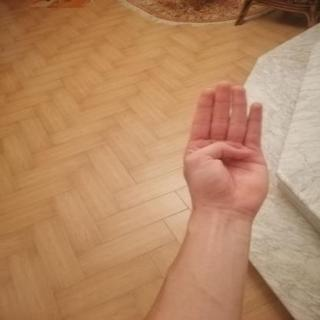KAAF: (172, 72, 283, 226)
